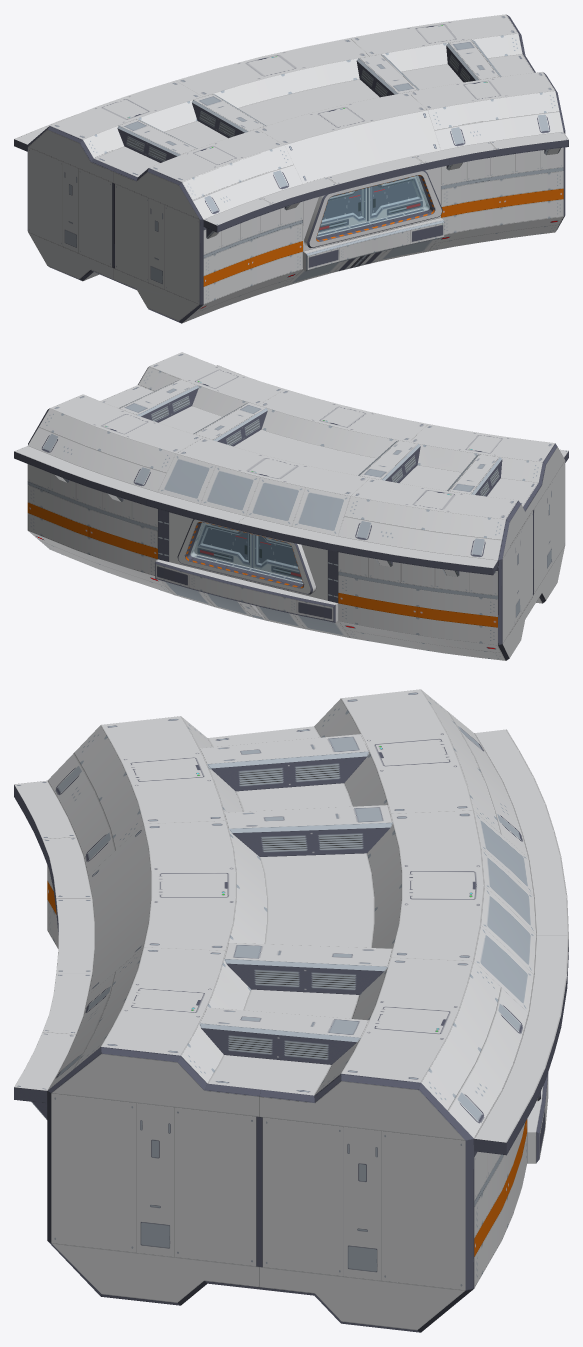
The model's file is Space_Base_Module_01.FBX.
The picture shows the model from 3 angles, top to bottom: view 1: azimuth 30°, elevation 25°; view 2: azimuth 150°, elevation 25°; view 3: azimuth 270°, elevation 25°; orthographic projection. The views are drawn at different scales.
Visible parts, largest first — view 1: Space_Base_Module_01, Force_Field_02, Door_02_Left, Door_02_Right; view 2: Space_Base_Module_01, Force_Field_01, Door_01_Right, Door_01_Left; view 3: Space_Base_Module_01.
Boxes of the visible parts, box(x1,y1,x2,y2) form: Space_Base_Module_01: box(14, 14, 568, 323); Force_Field_02: box(317, 176, 429, 236); Door_02_Left: box(367, 176, 425, 221); Door_02_Right: box(318, 188, 367, 233); Space_Base_Module_01: box(14, 352, 568, 660); Force_Field_01: box(190, 522, 302, 583); Door_01_Right: box(194, 523, 252, 567); Door_01_Left: box(253, 534, 301, 579); Space_Base_Module_01: box(14, 689, 568, 1332).
Bounding box in the file's own units: 284 × 80 × 161.
